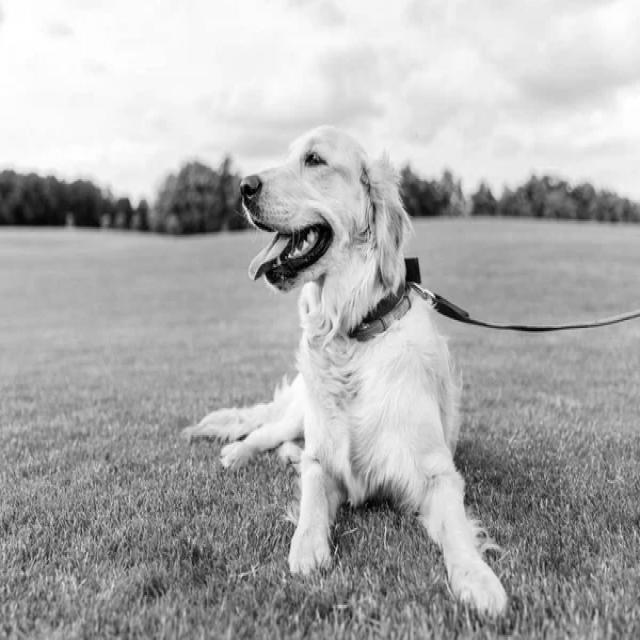Animal: (198, 121, 512, 618)
